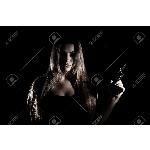Pistol: (104, 59, 128, 95)
